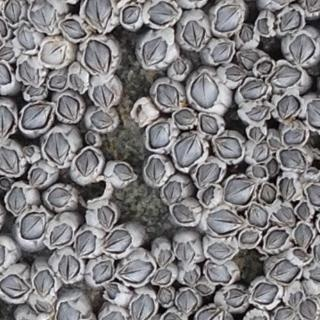Barnacle: (191, 71, 219, 107), (84, 40, 111, 76), (173, 135, 203, 167), (117, 259, 154, 284), (207, 209, 245, 233), (30, 0, 56, 33), (20, 210, 49, 239), (223, 178, 253, 205), (85, 0, 112, 30), (289, 34, 315, 64), (46, 132, 70, 164), (143, 36, 167, 68), (23, 103, 52, 129), (267, 261, 299, 284), (214, 4, 242, 30), (0, 274, 30, 298), (146, 1, 176, 25), (75, 148, 101, 175), (103, 230, 132, 254), (279, 147, 308, 171), (276, 93, 300, 120), (131, 295, 156, 320), (42, 41, 66, 67), (57, 255, 80, 282), (156, 84, 179, 111), (270, 66, 301, 86), (93, 85, 117, 110), (149, 122, 170, 150), (184, 20, 205, 47), (277, 9, 301, 32), (216, 137, 241, 159), (246, 104, 272, 125), (34, 270, 53, 298), (198, 162, 221, 185), (253, 283, 277, 305), (57, 95, 79, 119), (61, 17, 85, 39), (48, 186, 73, 207), (18, 22, 36, 51), (0, 147, 19, 174), (19, 61, 40, 85), (76, 231, 96, 256), (8, 187, 26, 214), (50, 223, 71, 246), (208, 263, 232, 283), (163, 182, 182, 207), (241, 80, 266, 99), (250, 203, 268, 228), (0, 106, 13, 140), (223, 289, 246, 308), (93, 259, 112, 282), (265, 230, 288, 249), (146, 158, 164, 182), (240, 50, 260, 71), (178, 290, 197, 312), (111, 162, 133, 181), (211, 43, 233, 62), (57, 302, 80, 320), (283, 127, 306, 145), (296, 222, 311, 249), (208, 243, 233, 259), (226, 64, 247, 83), (123, 4, 142, 24), (172, 205, 193, 223), (273, 204, 294, 222), (97, 206, 114, 228), (5, 0, 21, 23), (201, 115, 219, 135), (175, 109, 195, 127), (252, 142, 269, 162), (91, 112, 112, 128), (280, 178, 295, 200), (201, 185, 217, 205), (301, 300, 317, 319), (177, 243, 193, 262), (260, 184, 276, 203), (30, 168, 46, 187), (153, 270, 173, 284), (241, 229, 259, 244), (49, 75, 67, 90), (70, 72, 84, 91), (308, 184, 320, 206), (0, 47, 17, 62), (296, 203, 310, 221), (158, 249, 172, 266), (257, 18, 270, 36), (248, 126, 263, 141), (174, 58, 187, 75), (276, 309, 296, 320), (159, 289, 172, 304), (185, 269, 198, 284), (293, 250, 308, 263), (35, 302, 51, 314), (258, 61, 274, 73), (240, 26, 252, 42), (136, 105, 147, 122), (289, 291, 300, 307), (28, 86, 44, 97), (107, 285, 120, 298), (251, 166, 266, 177), (267, 159, 277, 175), (269, 138, 282, 150), (197, 285, 210, 295), (164, 313, 182, 320), (314, 241, 320, 261), (26, 146, 35, 158), (87, 134, 95, 145), (308, 170, 317, 179)
